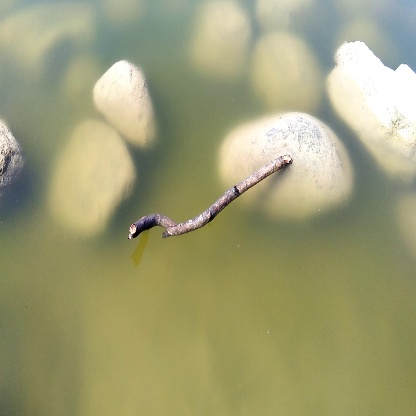branch: (127, 157, 298, 245)
